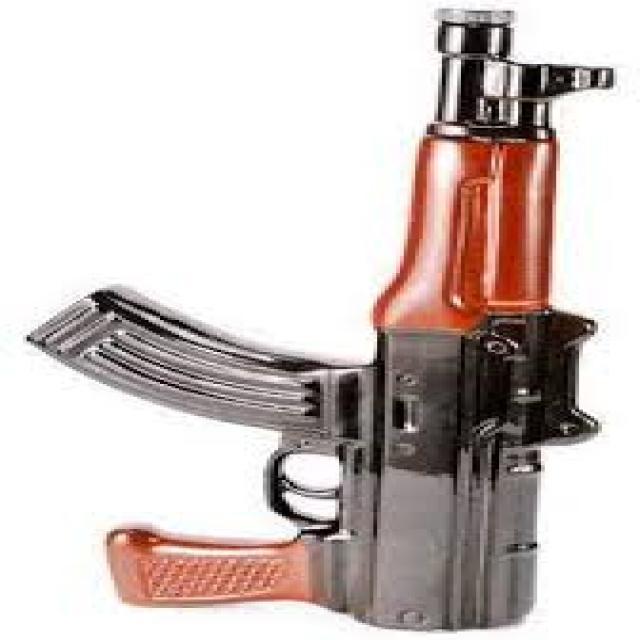rifle: (29, 1, 629, 632)
